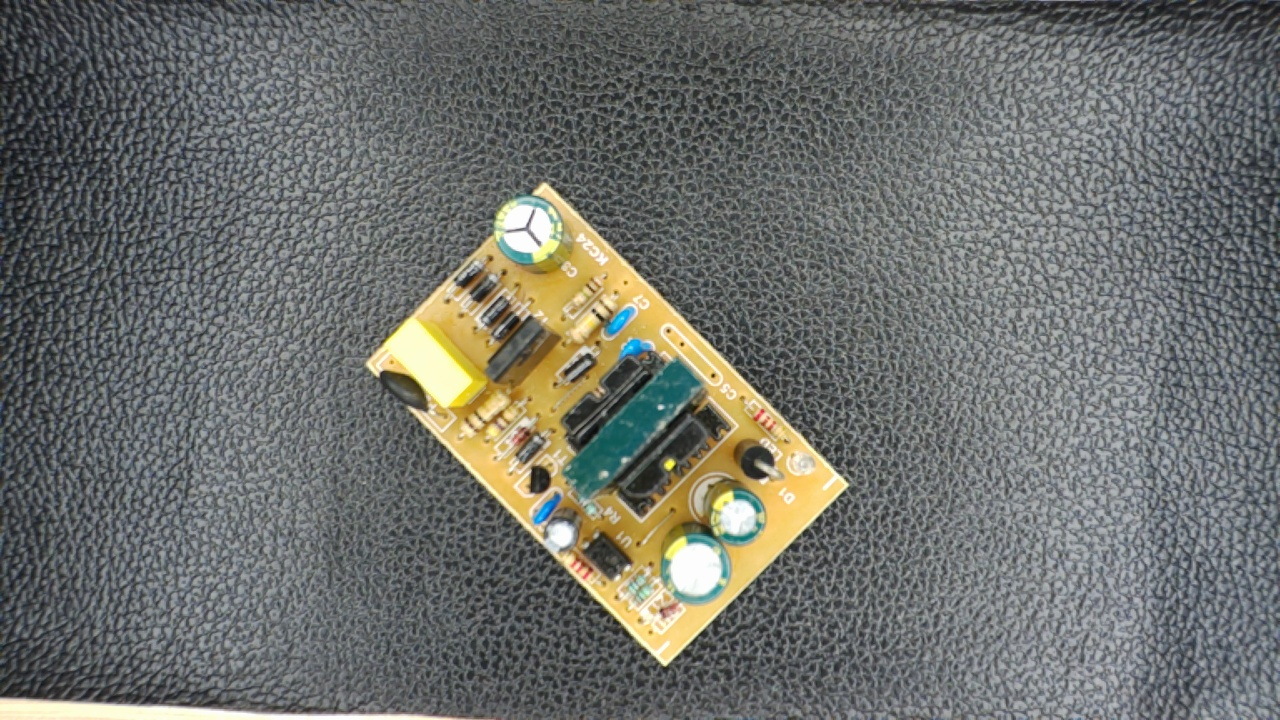fuse: (372, 362, 438, 417)
hv_capacitor: (491, 197, 573, 276)
optocoupler: (573, 525, 635, 582)
